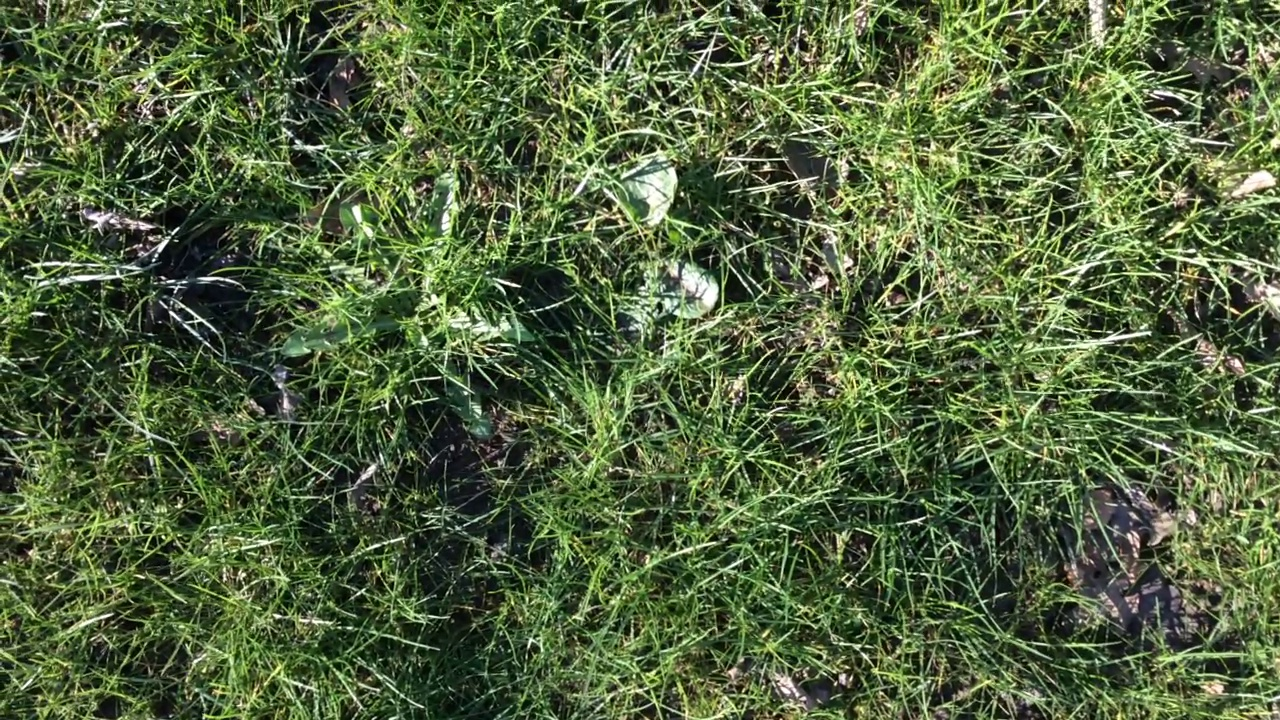rumex: (644, 259, 718, 319), (627, 154, 679, 227)
